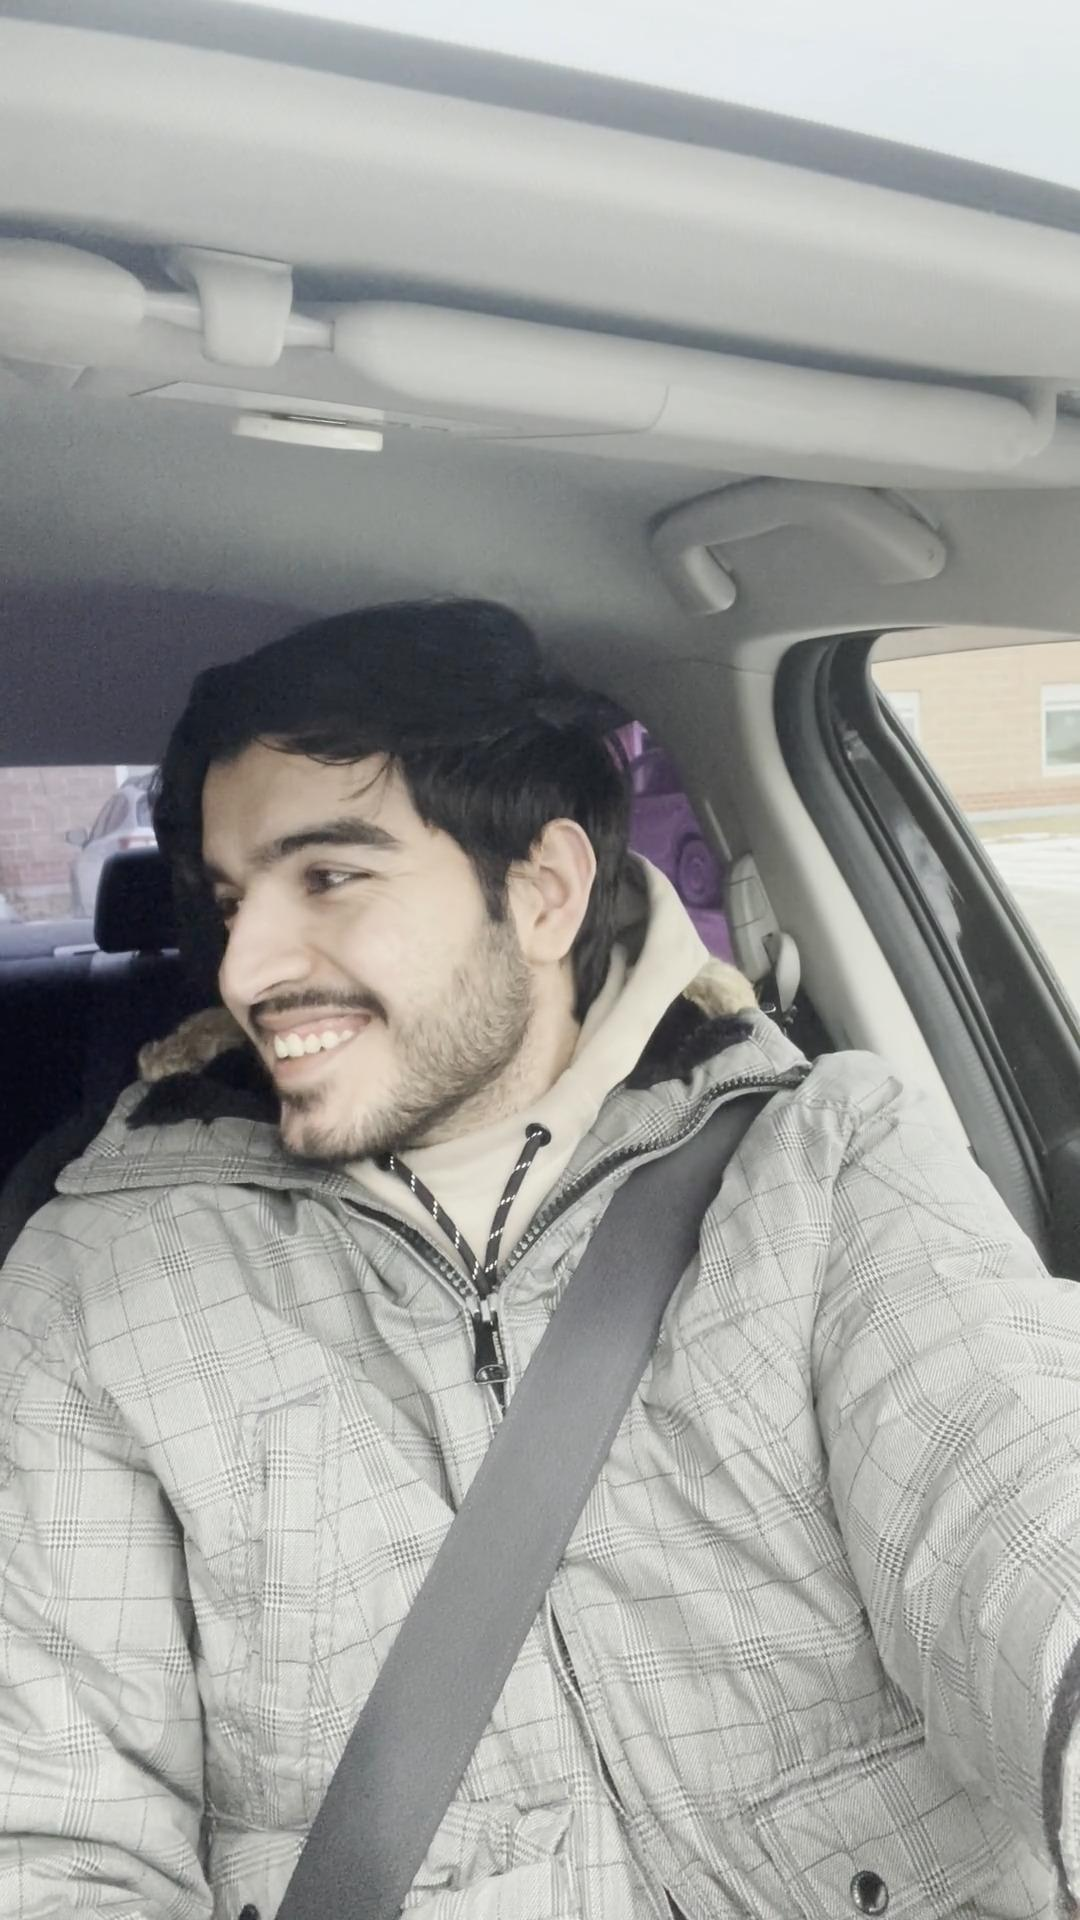inattentive: (115, 620, 675, 1205)
